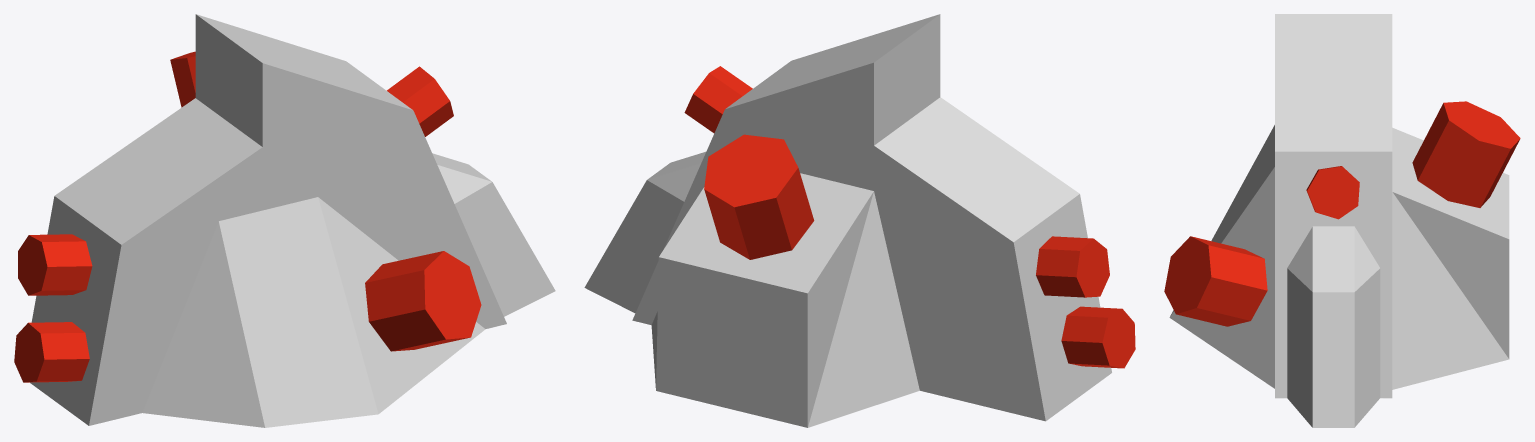
File: Rubi_Tipo2.fbx
The picture shows the model from 3 angles, left to right: view 1: azimuth 30°, elevation 25°; view 2: azimuth 150°, elevation 25°; view 3: azimuth 270°, elevation 25°; orthographic projection. The views are drawn at different scales.
Parts seen in each view (by area): view 1: base.013, rubi.001, rubi.002, rubi.003, rubi.004, rubi.005; view 2: base.013, rubi.005, rubi.003, rubi.002, rubi.004; view 3: base.013, rubi.005, rubi.001, rubi.004.
Part boxes in pixels (<box>): base.013: <box>29,14,555,427</box>; rubi.001: <box>365,251,481,351</box>; rubi.002: <box>18,234,92,295</box>; rubi.003: <box>14,322,89,382</box>; rubi.004: <box>387,66,453,136</box>; rubi.005: <box>170,51,195,107</box>; base.013: <box>584,14,1111,427</box>; rubi.005: <box>704,134,814,259</box>; rubi.003: <box>1061,306,1135,368</box>; rubi.002: <box>1036,236,1109,297</box>; rubi.004: <box>684,66,752,133</box>; base.013: <box>1169,14,1509,427</box>; rubi.005: <box>1412,101,1520,207</box>; rubi.001: <box>1164,236,1267,326</box>; rubi.004: <box>1306,166,1359,219</box>.
Bounding box in the file's own units: 151 × 87.89 × 101.
